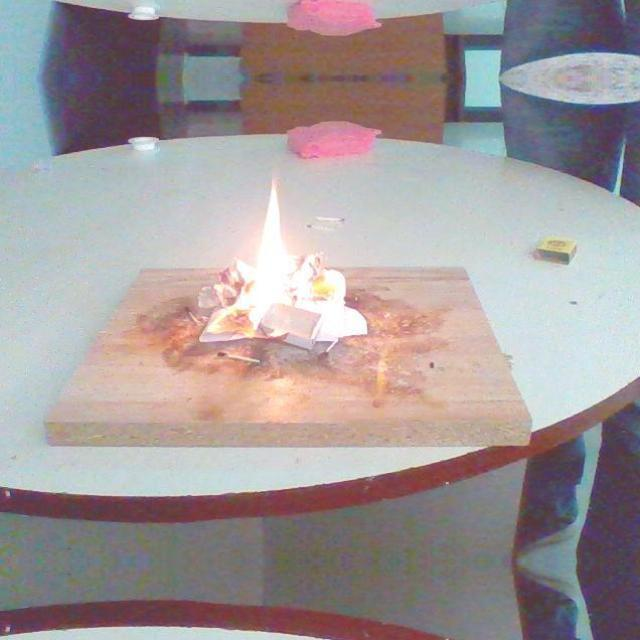smoke: (206, 180, 300, 329)
